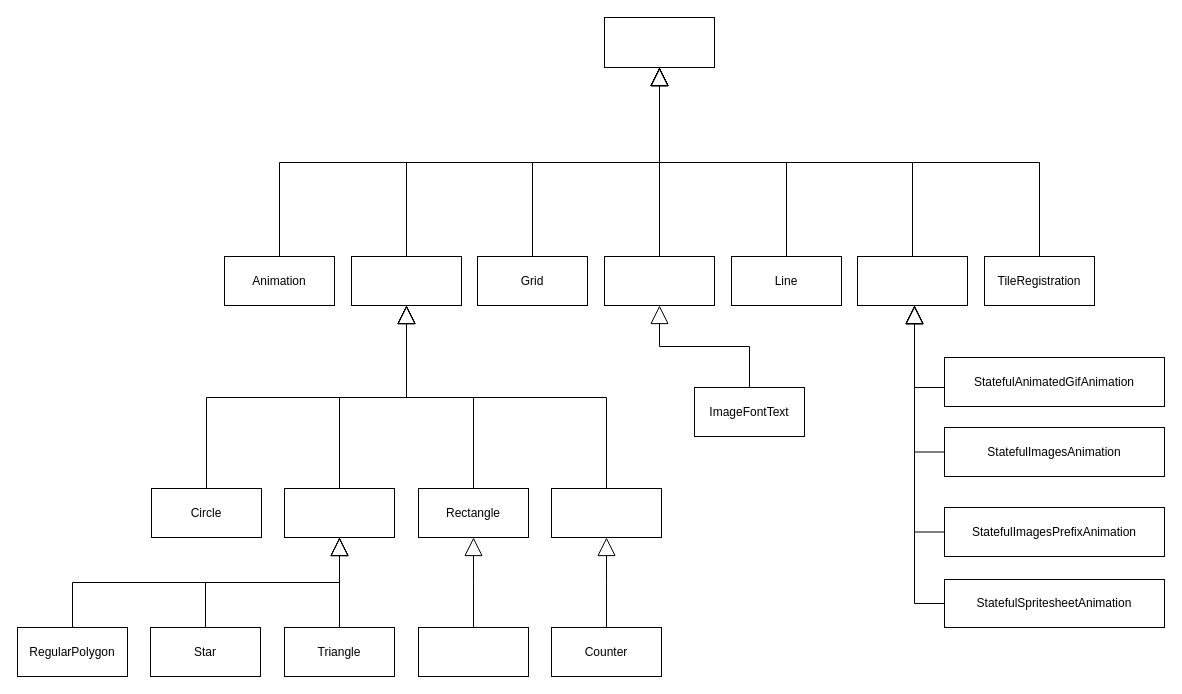
The diagram is 1182 pixels wide and 694 high, and some of its shapes have lost their labels. The shapes that lost their labels are listed below. From the top down, each one's centre as x and y in pixels, then its label:
point (659, 42): Actor {abstract}
point (406, 281): Geometry {abstract}
point (659, 281): Image
point (912, 281): StatefullAnimation
point (339, 513): Polygon
point (606, 513): Text
point (473, 651): Square
